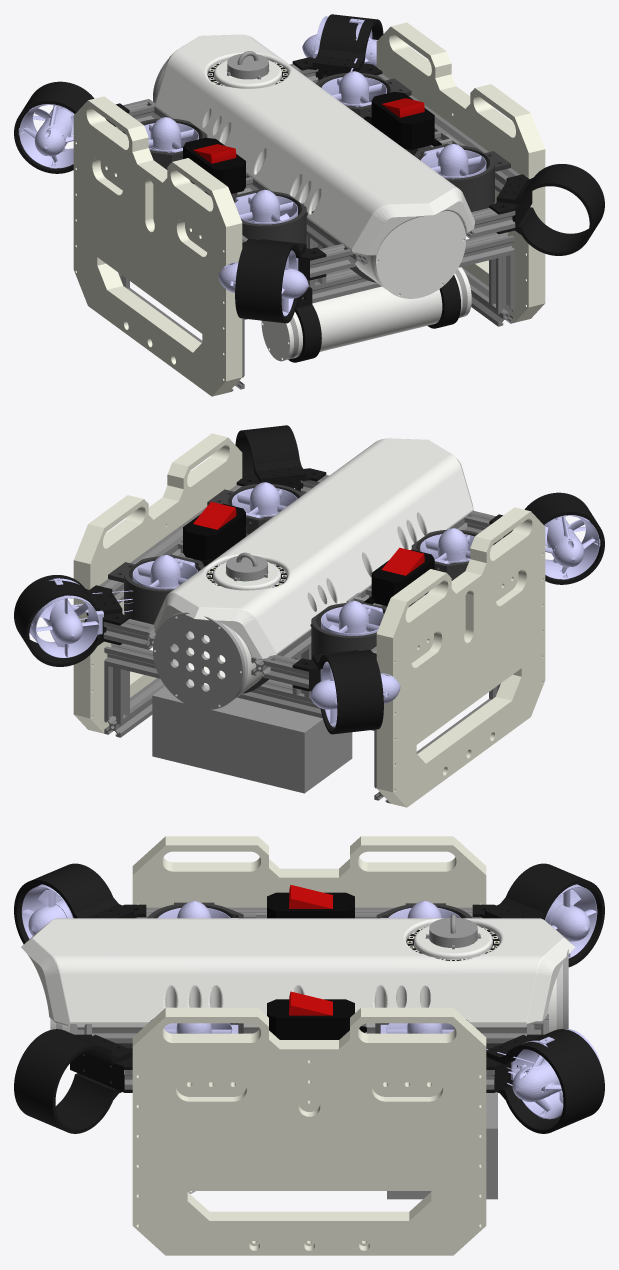
The model's file is MARVIC 2.5.glb.
3 views of the same model, one above another, from view 1: azimuth 30°, elevation 25°; view 2: azimuth 150°, elevation 25°; view 3: azimuth 270°, elevation 25° (orthographic). The views are drawn at different scales.
Visible parts, largest first — view 1: Node26, Node28, Node13, Node15, Node23, Node31, Node9, Node7, Node3, Node27, Node30, Node5 (+7 smaller); view 2: Node26, Node28, Node1, Node13, Node15, Node23, Node31, Node8, Node11, Node10, Node30, Node12 (+8 smaller); view 3: Node26, Node28, Node13, Node31, Node15, Node12, Node1, Node30, Node27, Node23, Node10, Node9 (+5 smaller).
Boxes of the visible parts, x1=… form: Node26: x1=73, y1=22, x2=545, y2=396; Node28: x1=155, y1=34, x2=474, y2=361; Node13: x1=14, y1=14, x2=604, y2=362; Node15: x1=115, y1=64, x2=519, y2=392; Node23: x1=124, y1=73, x2=510, y2=282; Node31: x1=183, y1=92, x2=441, y2=193; Node9: x1=19, y1=104, x2=74, y2=168; Node7: x1=339, y1=71, x2=485, y2=176; Node3: x1=144, y1=117, x2=293, y2=222; Node27: x1=209, y1=51, x2=459, y2=196; Node30: x1=193, y1=98, x2=424, y2=163; Node5: x1=235, y1=78, x2=382, y2=223; Node26: x1=73, y1=433, x2=545, y2=807; Node28: x1=154, y1=438, x2=473, y2=697; Node1: x1=152, y1=612, x2=352, y2=793; Node13: x1=14, y1=425, x2=604, y2=734; Node15: x1=99, y1=475, x2=503, y2=803; Node23: x1=108, y1=484, x2=494, y2=693; Node31: x1=183, y1=503, x2=434, y2=606; Node8: x1=29, y1=578, x2=103, y2=657; Node11: x1=544, y1=515, x2=600, y2=579; Node10: x1=310, y1=518, x2=585, y2=709; Node30: x1=193, y1=501, x2=424, y2=575; Node12: x1=36, y1=517, x2=568, y2=657; Node26: x1=132, y1=836, x2=486, y2=1255; Node28: x1=21, y1=918, x2=575, y2=1193; Node13: x1=14, y1=863, x2=604, y2=1133; Node31: x1=267, y1=892, x2=366, y2=1039; Node15: x1=70, y1=907, x2=548, y2=1089; Node12: x1=28, y1=904, x2=563, y2=1118; Node1: x1=387, y1=938, x2=568, y2=1199; Node30: x1=289, y1=885, x2=332, y2=1015; Node27: x1=255, y1=913, x2=480, y2=1033; Node23: x1=116, y1=902, x2=502, y2=1049; Node10: x1=22, y1=884, x2=590, y2=941; Node9: x1=545, y1=884, x2=597, y2=958.
Bounding box in the file's own units: 0.4516 × 0.2515 × 0.5382.
